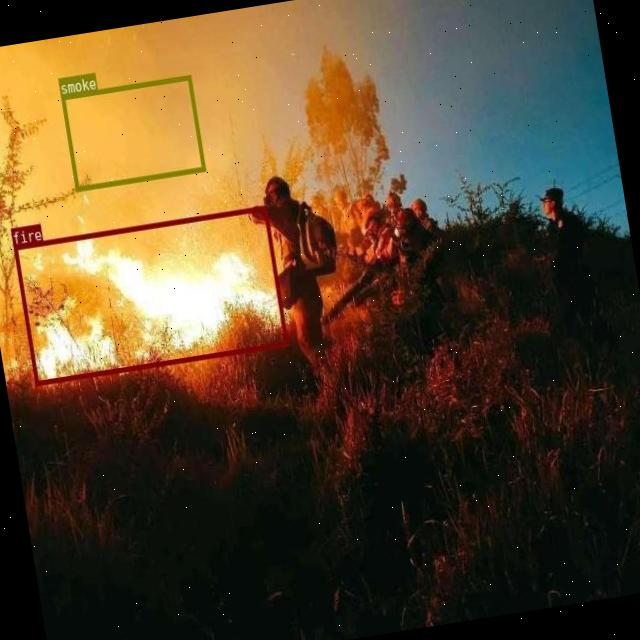fire: (13, 205, 288, 385)
smoke: (61, 74, 206, 190)
